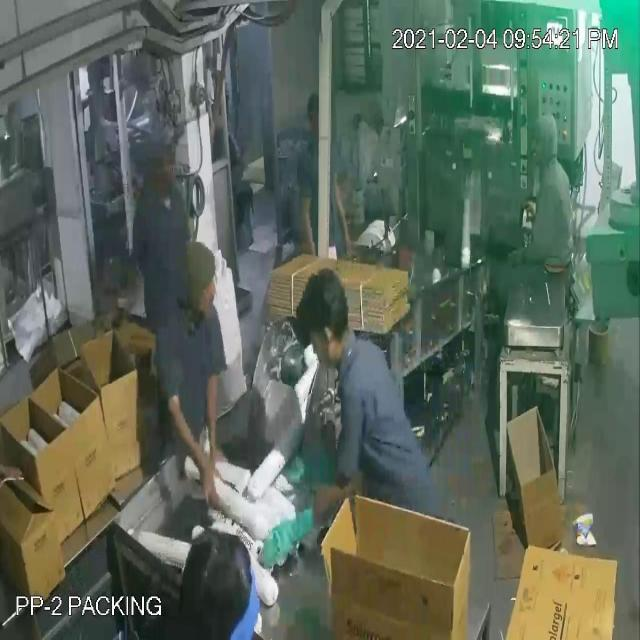No_Gloves: (26, 71, 342, 537)
